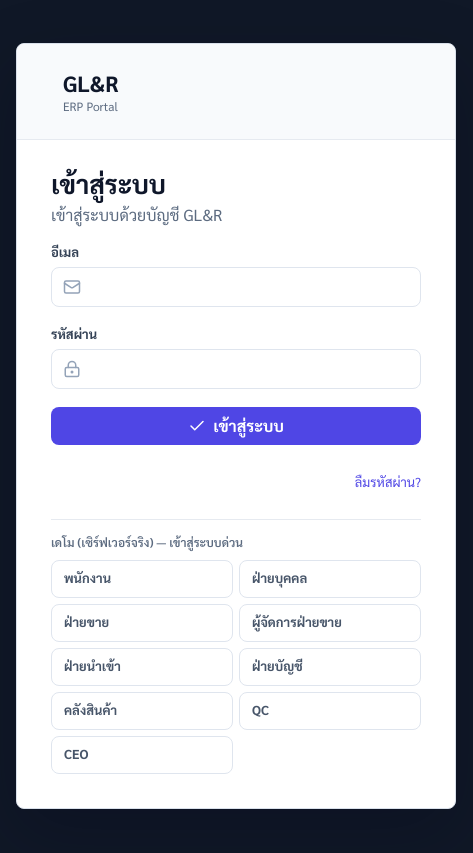
Test: App login errors (UX-06) › shows Thai bad-credentials copy for a 401, not the raw server message
Check: the button "เข้าสู่ระบบ" is shown, box [51,407,421,445]
Type "someone@glr.co" into the field labelled "อีเมล".
click(236, 287); type("someone@glr.co")  # box [51,267,421,307]
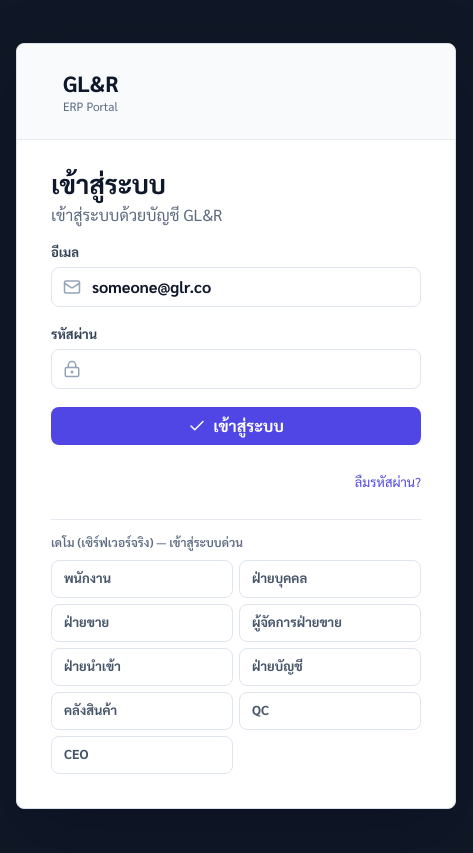
Type "wrong-password" into the password field labelled "รหัสผ่าน".
click(236, 369); type("wrong-password")  # box [51,349,421,389]
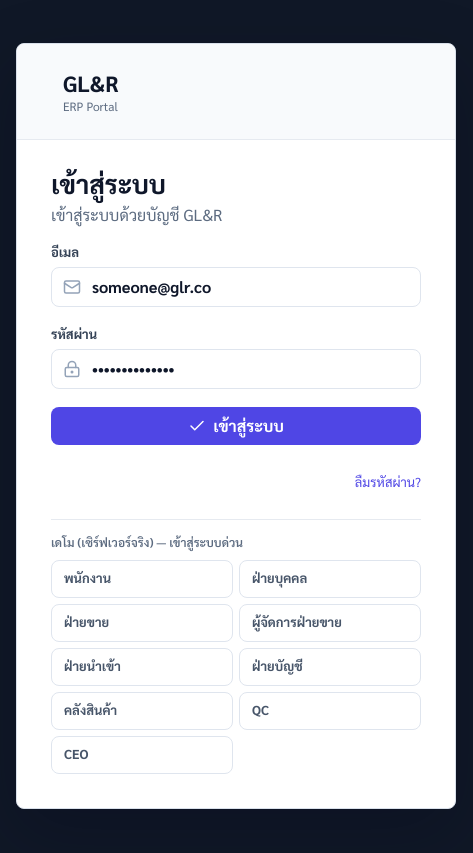
Click the button "เข้าสู่ระบบ".
click(236, 426)  # box [51,407,421,445]
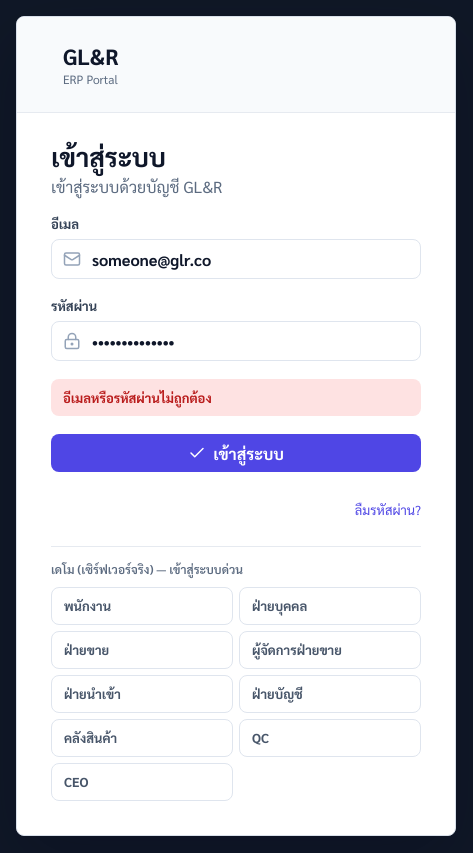
Check: the text "อีเมลหรือรหัสผ่านไม่ถูกต้อง" is shown, box [51,379,421,416]
